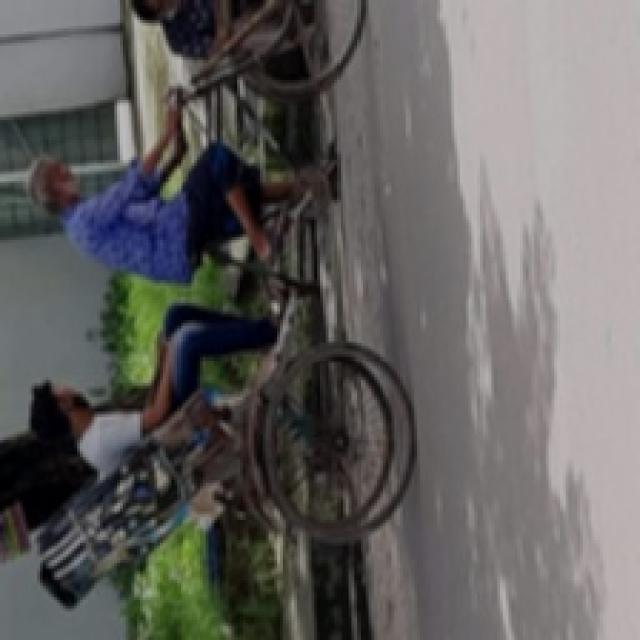rickshaw: (26, 2, 386, 625)
